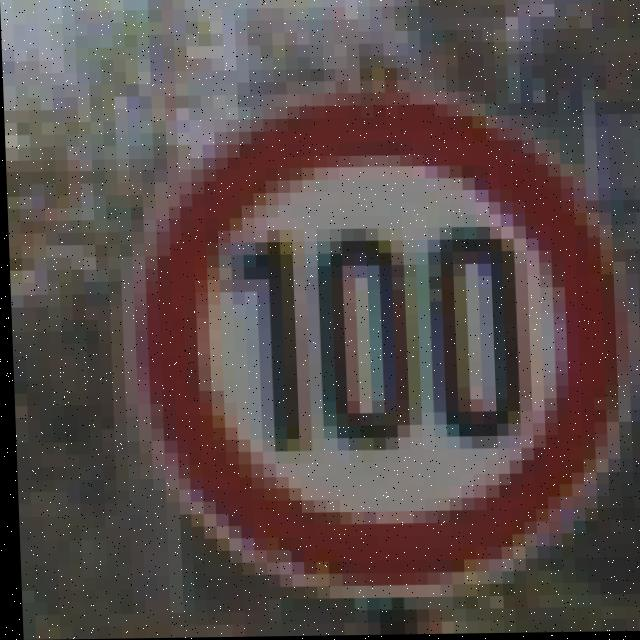speed_limit_100: (152, 101, 626, 591)
